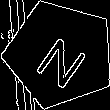N_NE: (28, 22, 92, 87)
